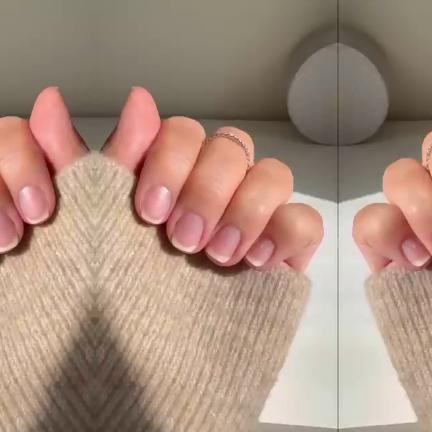Nail: (205, 225, 240, 263), (171, 213, 202, 252), (140, 186, 171, 224), (17, 186, 48, 224), (244, 239, 273, 267), (401, 239, 430, 267), (0, 213, 17, 252)
